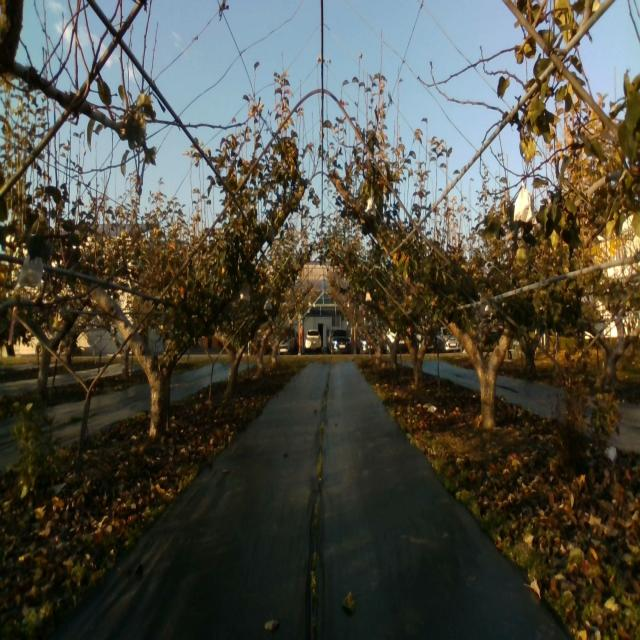pearbags: (513, 180, 537, 225), (18, 254, 42, 288), (366, 197, 377, 218)
